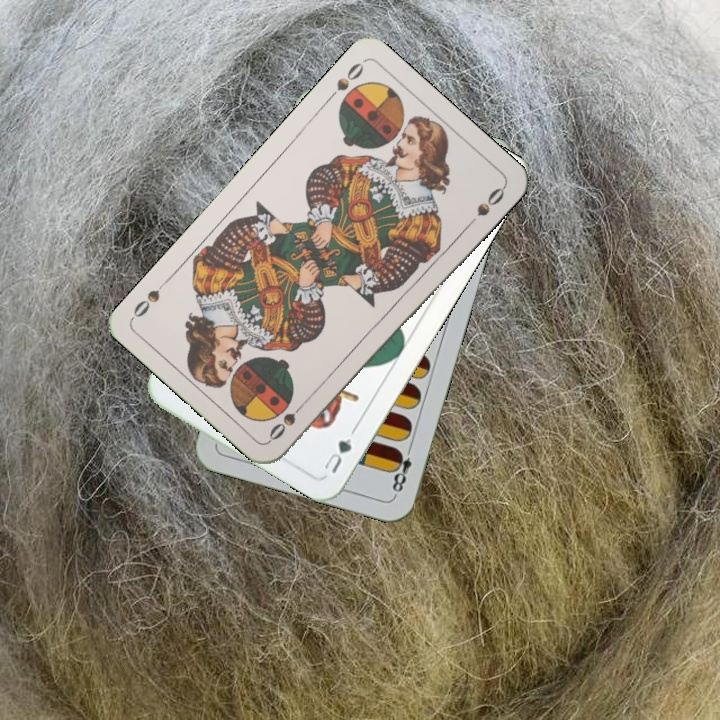E8: (388, 440, 415, 498)
GU: (318, 434, 355, 476)
SO: (265, 395, 310, 444), (322, 58, 367, 105)
